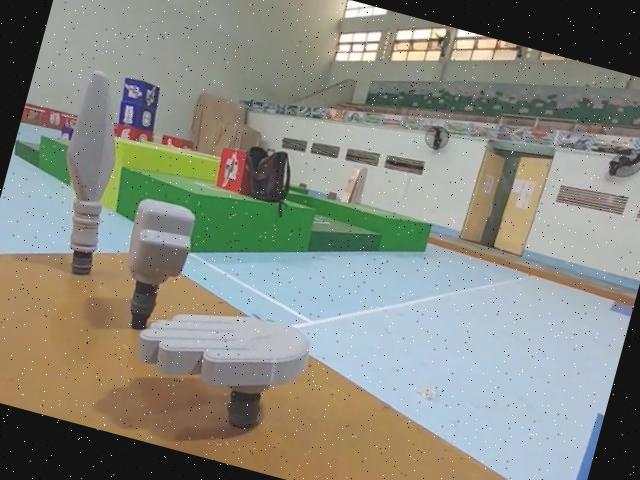Fist: (104, 188, 205, 341)
Hand: (115, 285, 310, 449)
Sph: (35, 65, 146, 292)
